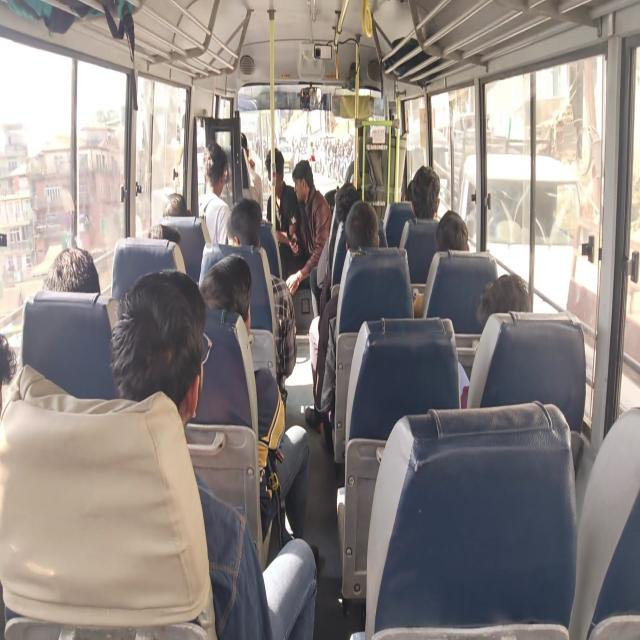person: (113, 253, 205, 425), (38, 236, 105, 312), (202, 250, 256, 334), (475, 277, 542, 326), (222, 200, 272, 254), (341, 194, 382, 256), (198, 141, 237, 204), (408, 168, 442, 223), (437, 208, 471, 260), (260, 152, 290, 205), (331, 172, 365, 217), (355, 100, 376, 152), (158, 190, 193, 220), (144, 224, 182, 250), (290, 159, 313, 201), (234, 122, 252, 168), (401, 166, 417, 208)
